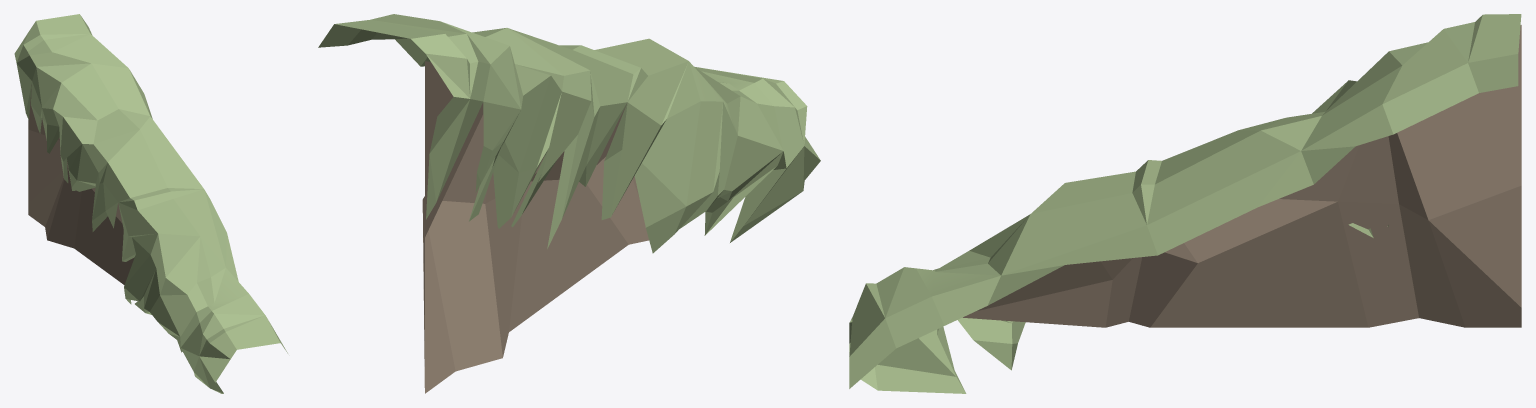
Rendered from ER_Terrain_1x1_GrassSlopeHalf_001_A1.fbx.
3 renders of one model, left to right at view 1: azimuth 30°, elevation 25°; view 2: azimuth 150°, elevation 25°; view 3: azimuth 270°, elevation 25°, orthographic. The views are drawn at different scales.
Parts seen in each view (by area): view 1: ER_Terrain_1x1_GrassSlopeHalf_001_A1; view 2: ER_Terrain_1x1_GrassSlopeHalf_001_A1; view 3: ER_Terrain_1x1_GrassSlopeHalf_001_A1.
Boxes of the visible parts, box(x1,y1,x2,y2) form: ER_Terrain_1x1_GrassSlopeHalf_001_A1: box(14, 14, 287, 393); ER_Terrain_1x1_GrassSlopeHalf_001_A1: box(318, 14, 820, 393); ER_Terrain_1x1_GrassSlopeHalf_001_A1: box(849, 14, 1521, 393).
Size of the model in its own units: 0.2761 by 0.6371 by 1.
